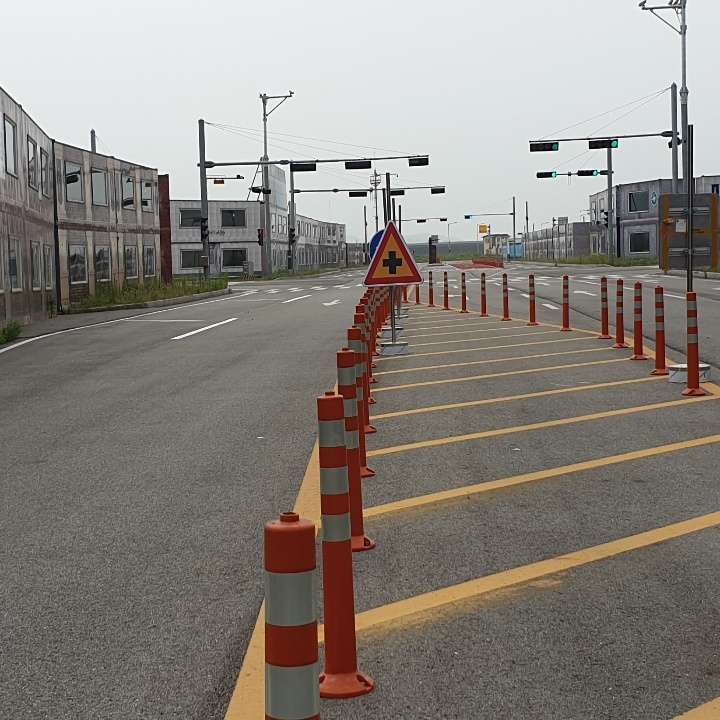inter: (379, 246, 407, 275)
